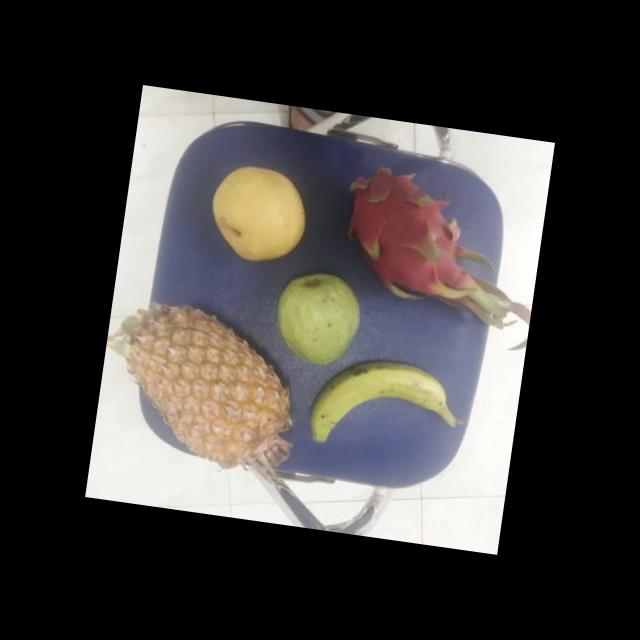banana: (302, 352, 450, 458)
guava: (264, 266, 368, 372)
pear: (202, 160, 313, 271)
pineapple: (106, 298, 304, 472)
pitaya: (325, 156, 508, 320)
